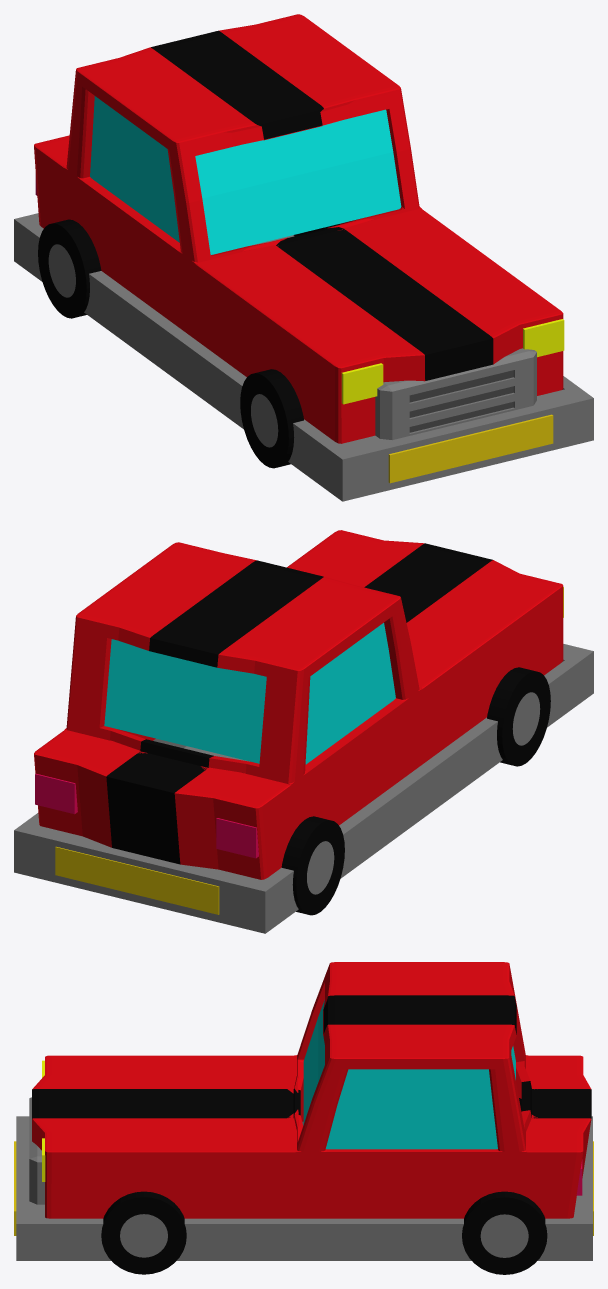
Rendered from Carv1.fbx.
The picture shows the model from 3 angles, top to bottom: view 1: azimuth 30°, elevation 25°; view 2: azimuth 150°, elevation 25°; view 3: azimuth 270°, elevation 25°; orthographic projection. The views are drawn at different scales.
Visible parts, largest first — view 1: Cube.002; view 2: Cube.002; view 3: Cube.002.
Part boxes in pixels (x1,y1,x2,y2): Cube.002: [14, 14, 593, 501]; Cube.002: [14, 530, 593, 933]; Cube.002: [14, 962, 593, 1274].
Bounding box in the file's own units: 147 × 130 × 326.
